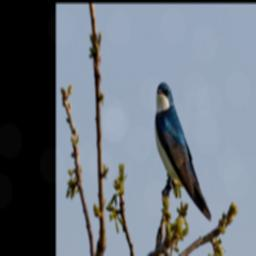Swallow: (152, 76, 214, 223)
